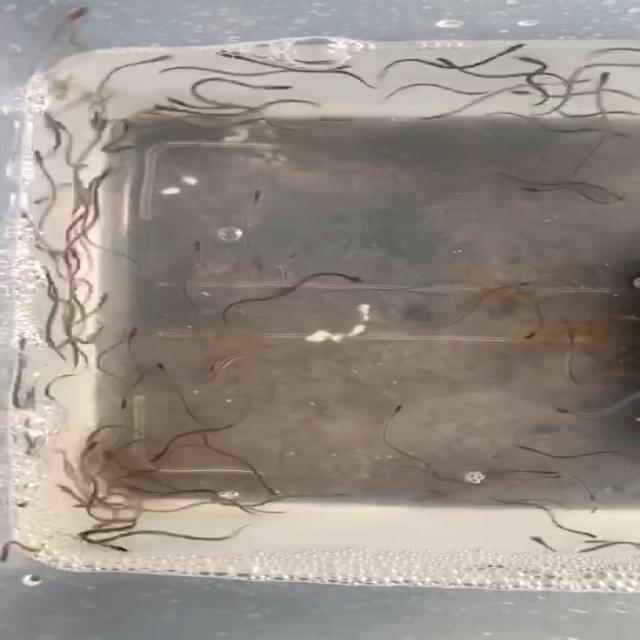inactive_glass_eel: (232, 181, 270, 208), (86, 291, 134, 307), (208, 48, 258, 63), (74, 436, 108, 455), (325, 268, 367, 283), (522, 182, 557, 200), (314, 482, 344, 503), (515, 317, 541, 341), (93, 167, 124, 187), (556, 528, 596, 543), (55, 482, 88, 500), (83, 111, 115, 129), (39, 106, 69, 124), (102, 394, 133, 411), (137, 49, 177, 61), (149, 449, 174, 468), (183, 236, 210, 253), (22, 149, 52, 164), (432, 55, 464, 69), (514, 57, 550, 69), (195, 355, 222, 371), (492, 86, 534, 96), (149, 356, 172, 374), (95, 539, 129, 551), (162, 90, 187, 106), (550, 314, 574, 330), (552, 404, 576, 420), (530, 526, 549, 546), (118, 324, 145, 338), (508, 276, 534, 290), (11, 205, 40, 217), (114, 115, 140, 128), (72, 498, 96, 512), (591, 70, 619, 81), (386, 398, 406, 413), (262, 481, 282, 496), (144, 105, 174, 114), (502, 42, 528, 52), (259, 83, 282, 88), (328, 64, 348, 69)
